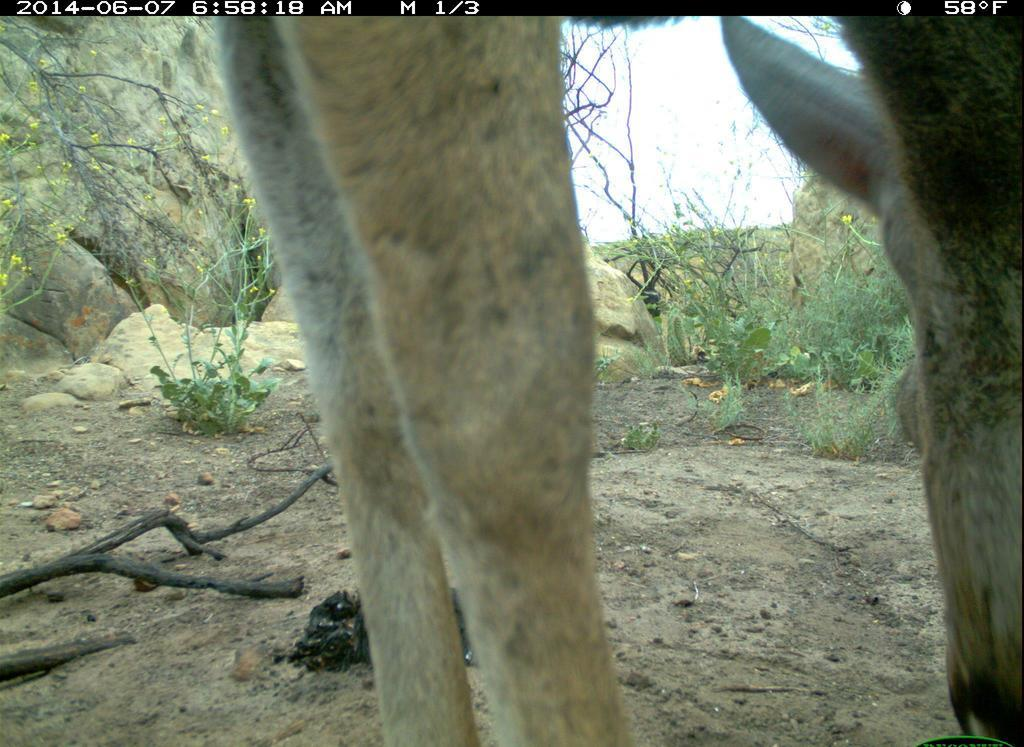deer: (213, 20, 1023, 747)
